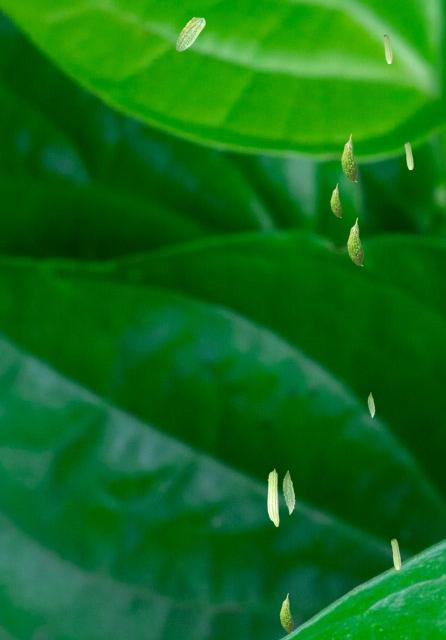ampalaya: (175, 16, 205, 51), (346, 217, 363, 266), (340, 133, 357, 182), (267, 468, 279, 527), (282, 470, 295, 515), (279, 593, 293, 633), (330, 183, 342, 218), (390, 538, 401, 570), (382, 34, 393, 64), (404, 141, 414, 170), (367, 392, 375, 418)
